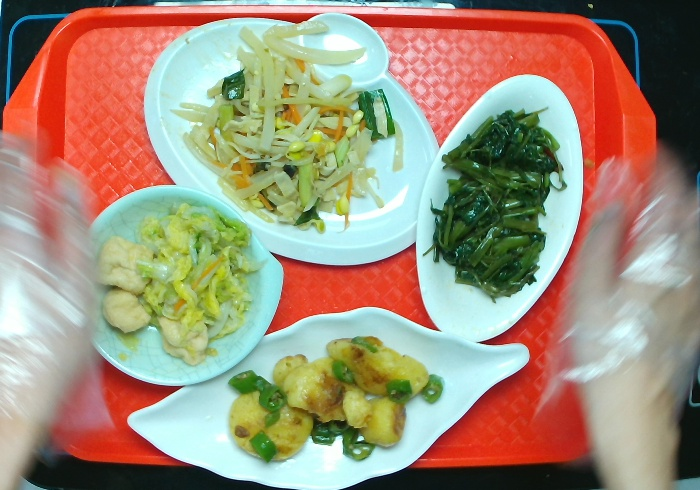RJxy-Bai_Se_Tuo_Yuan: (414, 71, 585, 343)
RJxy-Shu_Ye_Pan: (125, 303, 530, 490)
RJxy-Xiao_Jiao_Yuan_Wan: (82, 183, 286, 389)
RJxy-Zhan_Liao_Pan: (142, 9, 442, 266)
